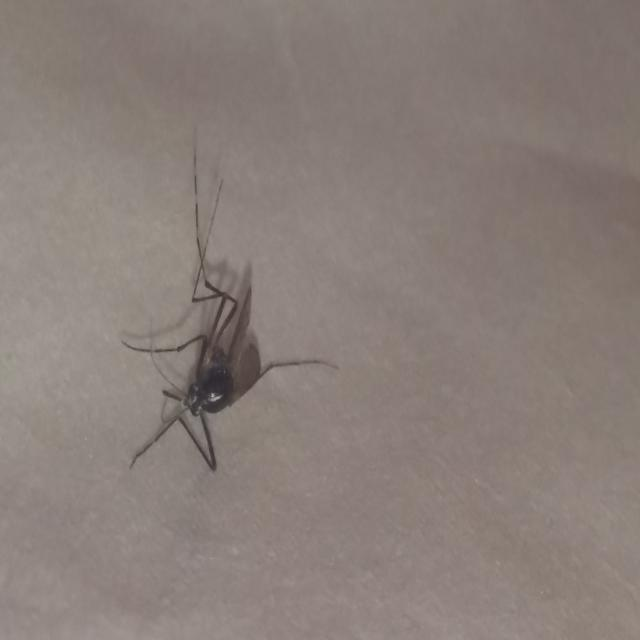albopictus: (118, 143, 338, 492)
